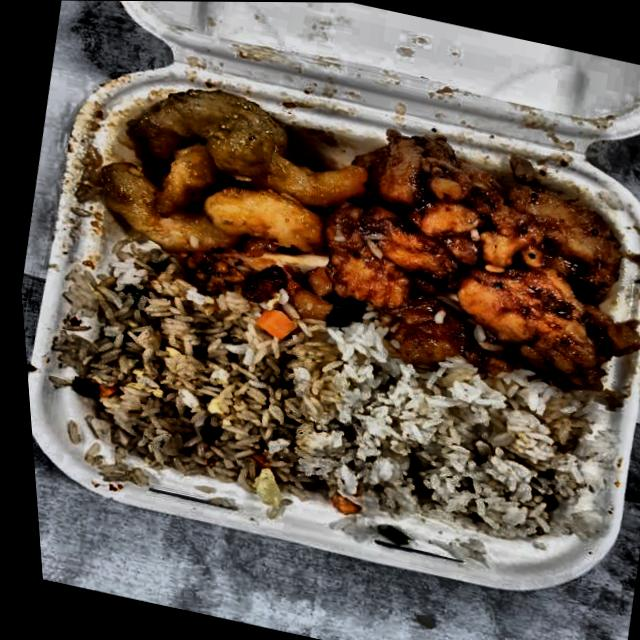Food: (282, 107, 640, 410), (64, 66, 382, 324), (285, 330, 611, 562), (45, 262, 355, 499)
